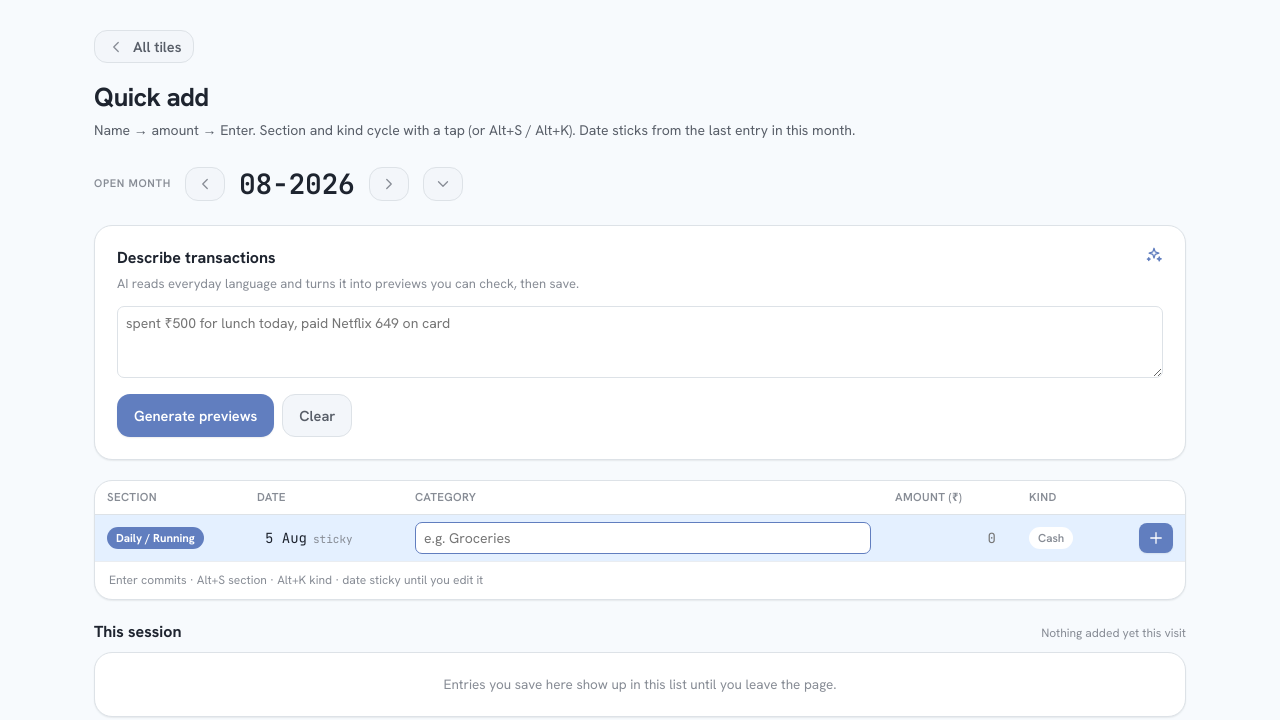
Test: RecordEntryPage › failed update keeps old values and shows rowErr
The width and height of the screenshot is (1280, 720).
expect the heading "Quick add" is shown: met, box [94,80,208,114]
Type "Bus" into the dropdown with placeholder "e.g. Groceries" at [643, 538], box [415,522,871,554]
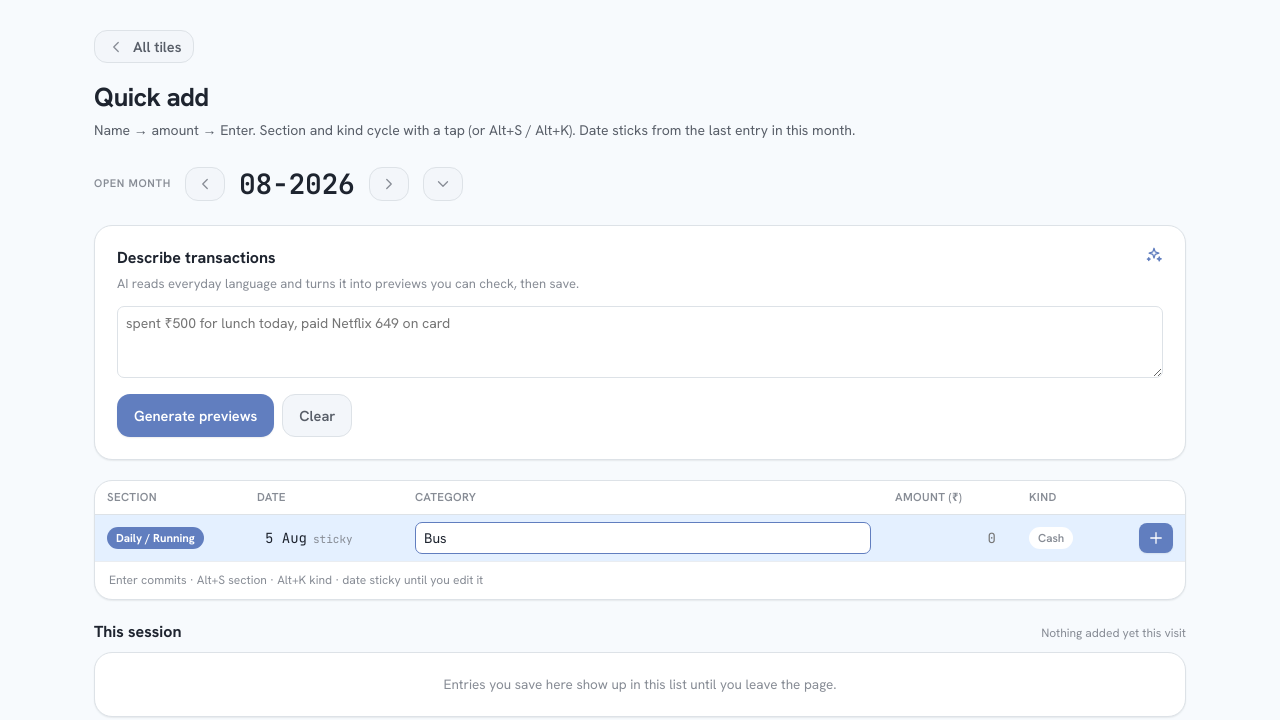
Type "50" into the field with placeholder "0" at [950, 538], box [895,522,1005,554]
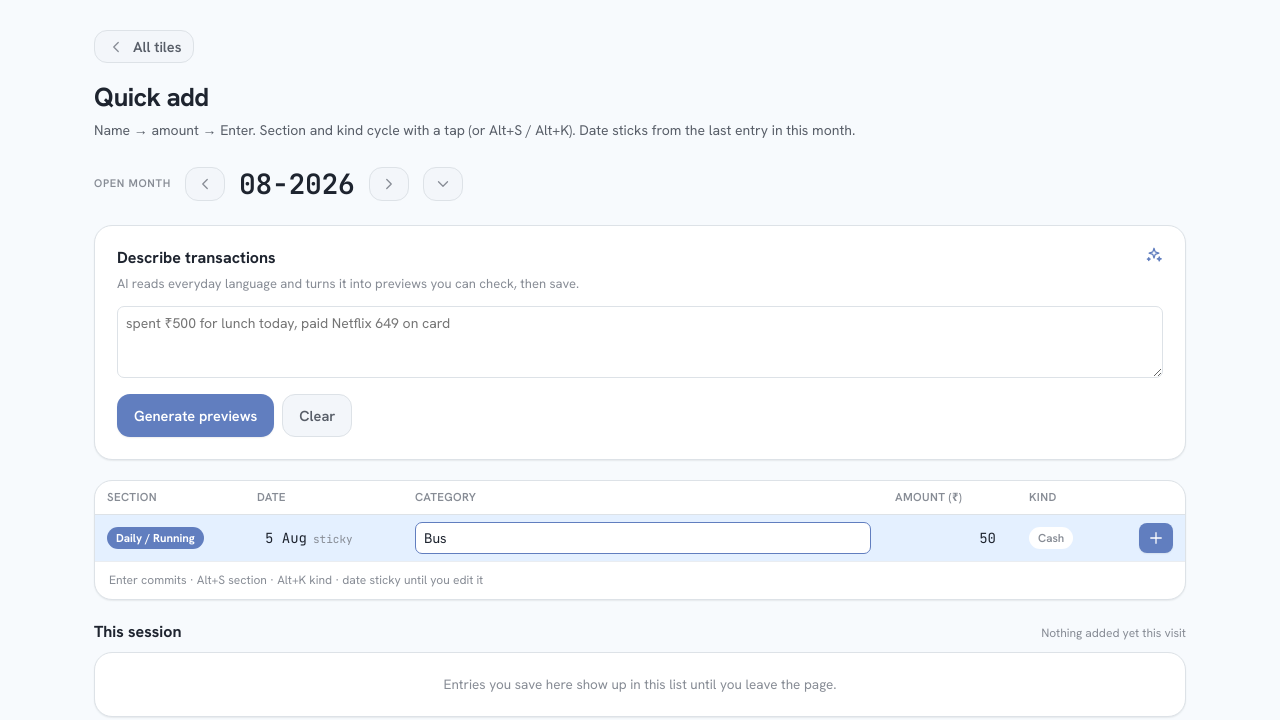
Click the button named "Add entry" at [1156, 538], box [1139,523,1173,553]
(page scrolled)
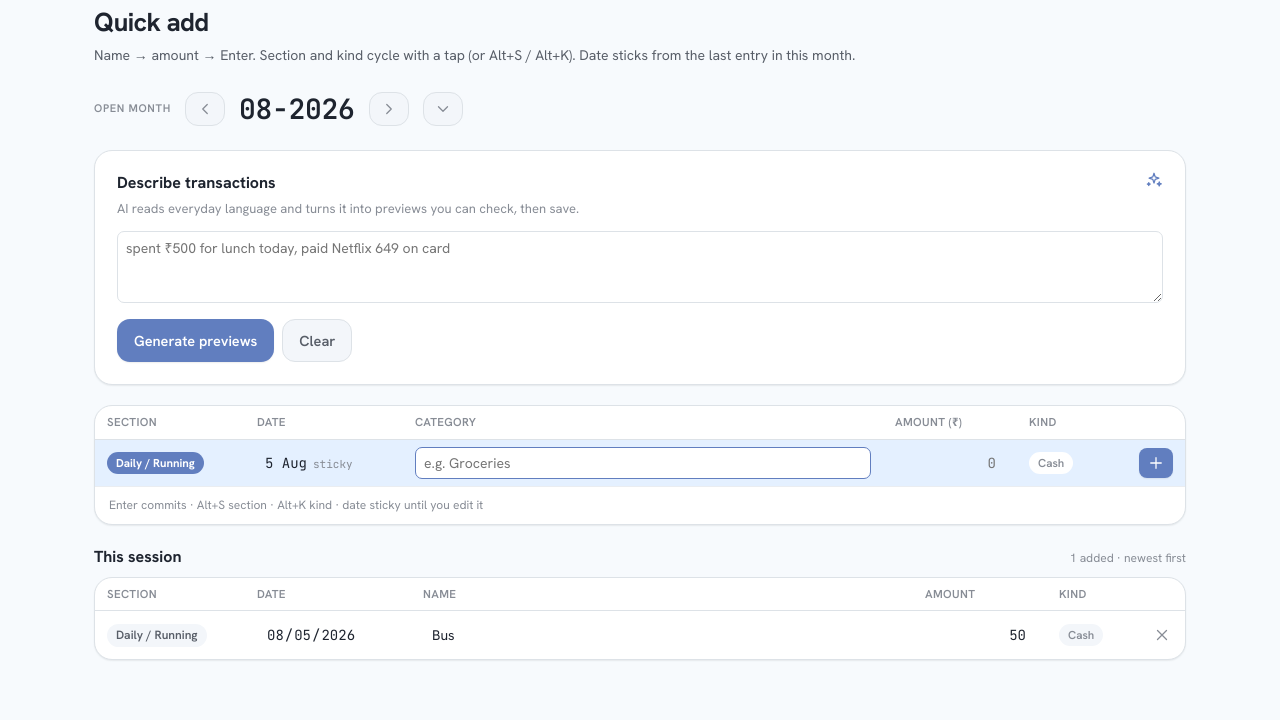
expect the dropdown showing "Bus" is shown: met
Replace the text in the 2nd dropdown with "Train" at [662, 635], box [423,619,901,651]
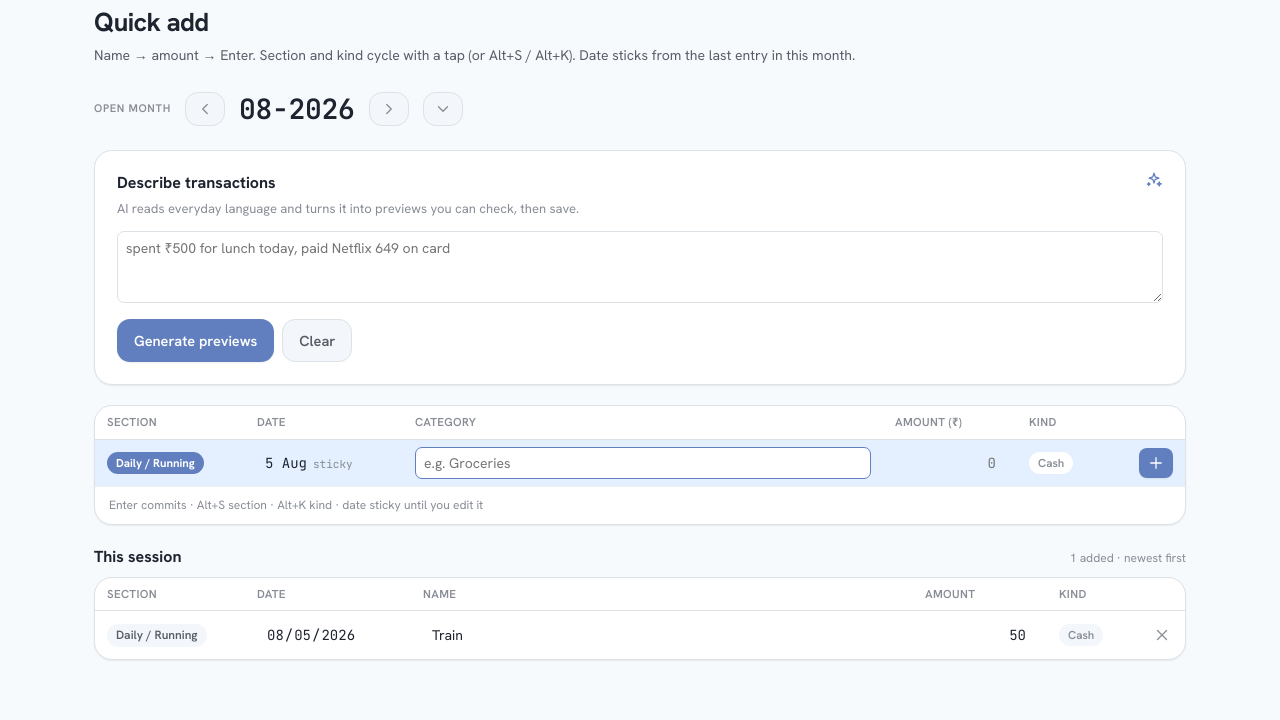
Leave the 2nd dropdown, box [423,619,901,651]
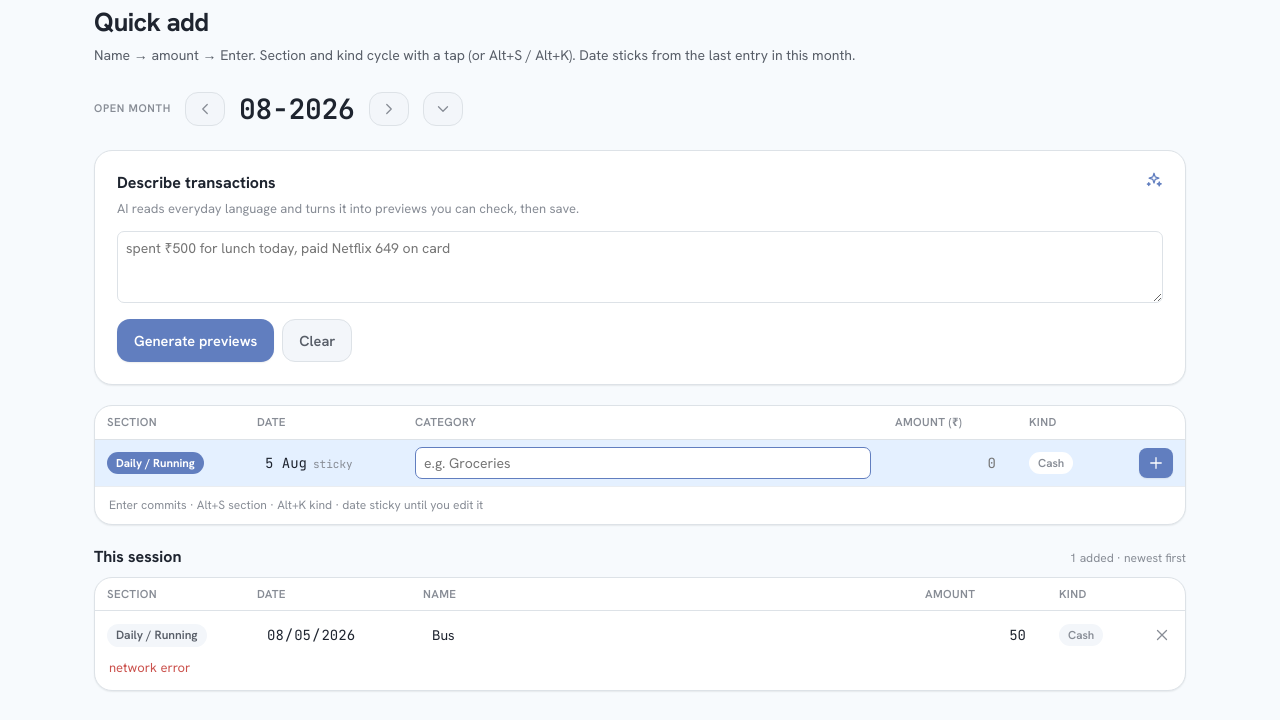
expect the text "network error" is shown: met, box [109,659,190,676]
expect the dropdown showing "Bus" is shown: met, box [423,619,901,651]
